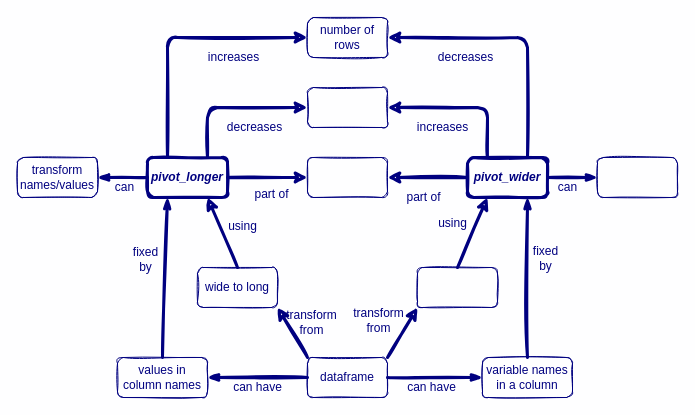
Image size: 695x415. Some labels were removed from this diagram. Each missing label, with the centre of its shape:
dplyr: point (347, 177)
format names: point (637, 177)
long to wide: point (457, 287)
number of columns: point (347, 107)
